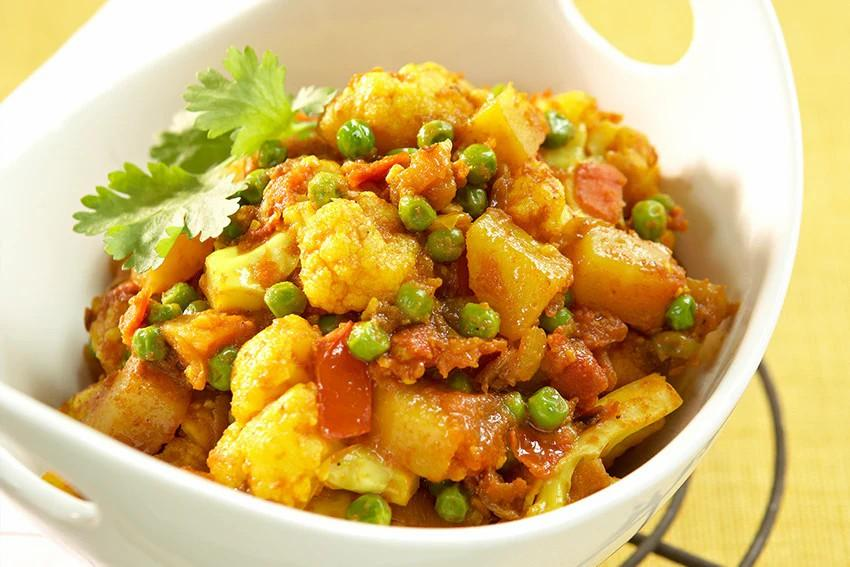AlooGobi: (58, 61, 736, 528)
